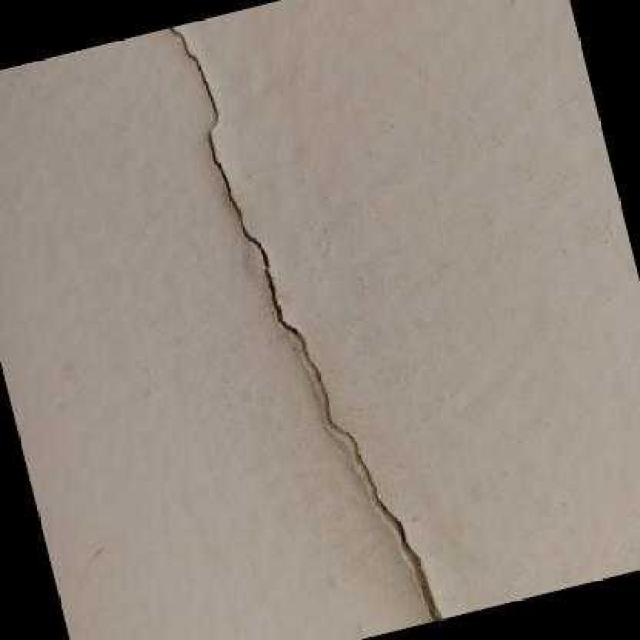D00: (169, 27, 443, 621)
